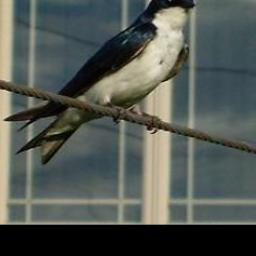Swallow: (1, 0, 196, 166)
